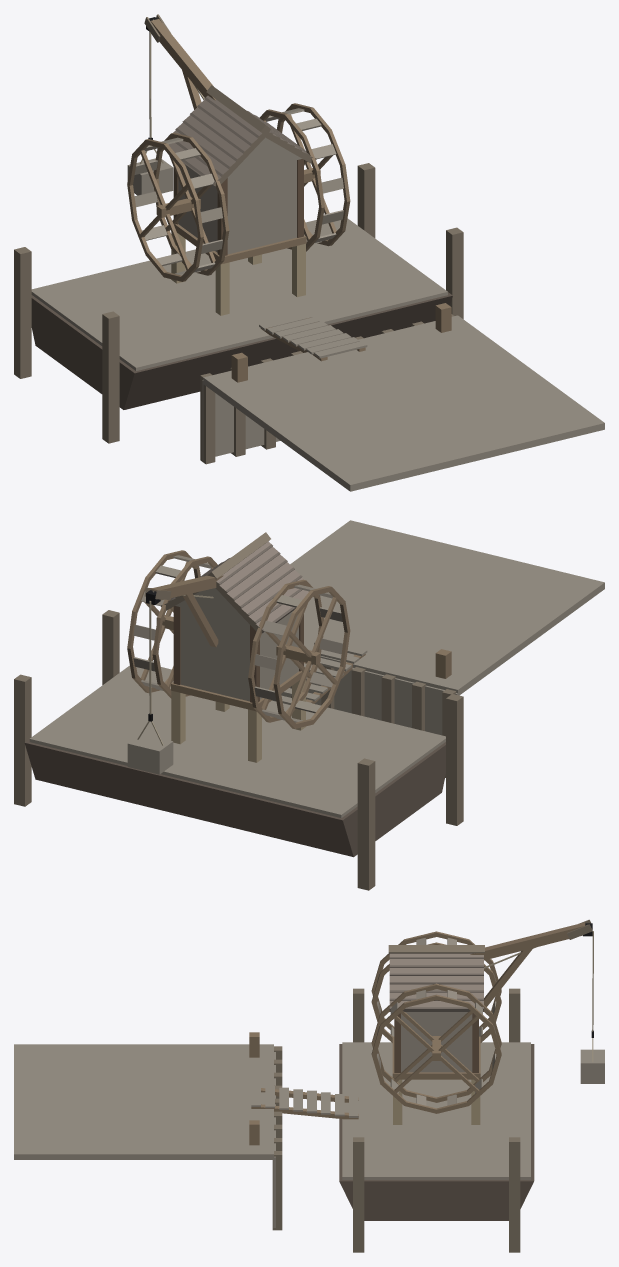
File: wasser_schwimmkran.glb
3 renders of one model, top to bottom at view 1: azimuth 30°, elevation 25°; view 2: azimuth 150°, elevation 25°; view 3: azimuth 270°, elevation 25°, orthographic. The views are drawn at different scales.
Visible parts, largest first — view 1: Ponton, Haus, Kranhaus, Tretrad; view 2: Ponton, Haus, Kranhaus, Tretrad; view 3: Ponton, Haus, Kranhaus, Tretrad.
Boxes of the visible parts, <box> form: Ponton: <box>14,163,463,443</box>; Haus: <box>200,303,604,491</box>; Kranhaus: <box>127,14,316,315</box>; Tretrad: <box>127,103,350,281</box>; Ponton: <box>14,610,463,890</box>; Haus: <box>281,520,604,777</box>; Kranhaus: <box>127,532,308,774</box>; Tretrad: <box>127,550,350,728</box>; Ponton: <box>251,988,534,1252</box>; Haus: <box>14,1032,282,1230</box>; Kranhaus: <box>388,919,604,1124</box>; Tretrad: <box>371,931,501,1113</box>.
Bounding box in the file's own units: 11.15 × 8.61 × 18.18.
